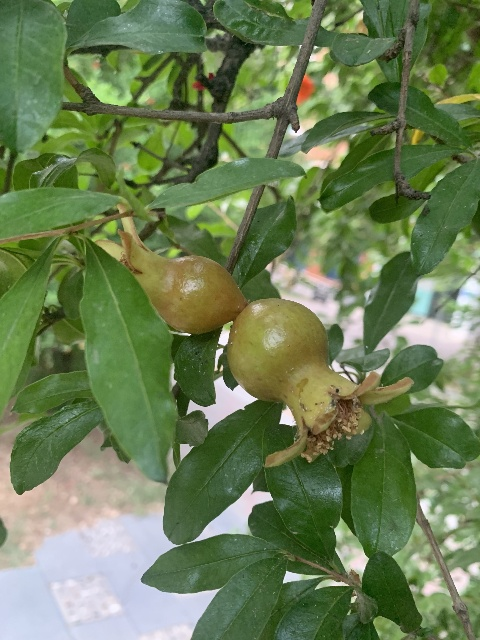early-fruit: (95, 203, 244, 334)
mid-growth: (226, 299, 414, 467)
